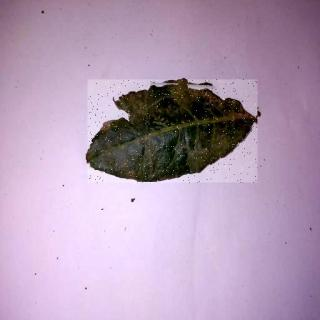Anthracnose: (89, 81, 259, 185)
